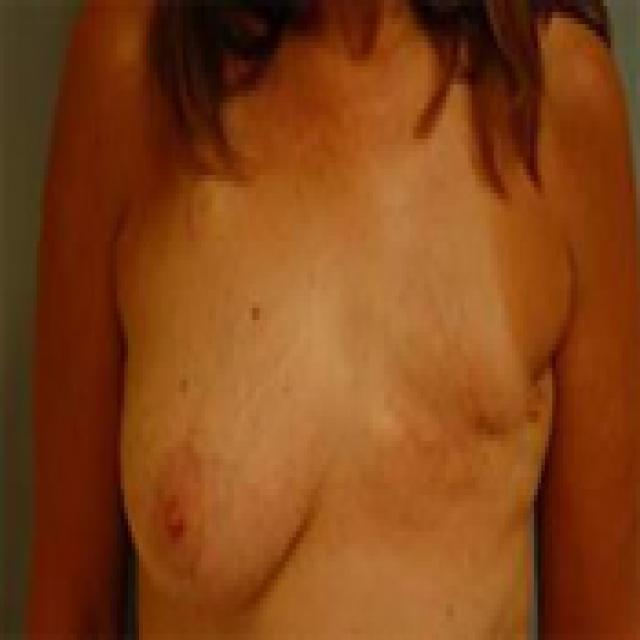Seno herido: (339, 286, 570, 521)
Seno ileso: (114, 286, 336, 634)
